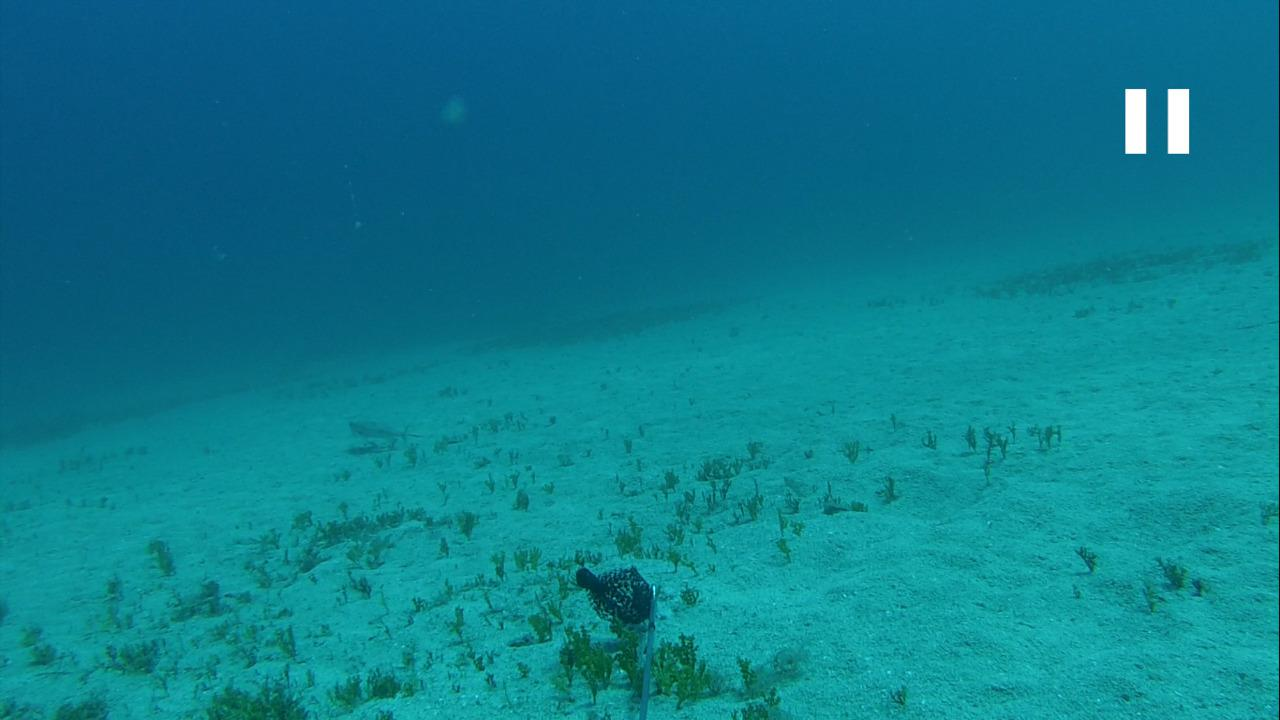dactylopterus: (328, 407, 418, 448)
